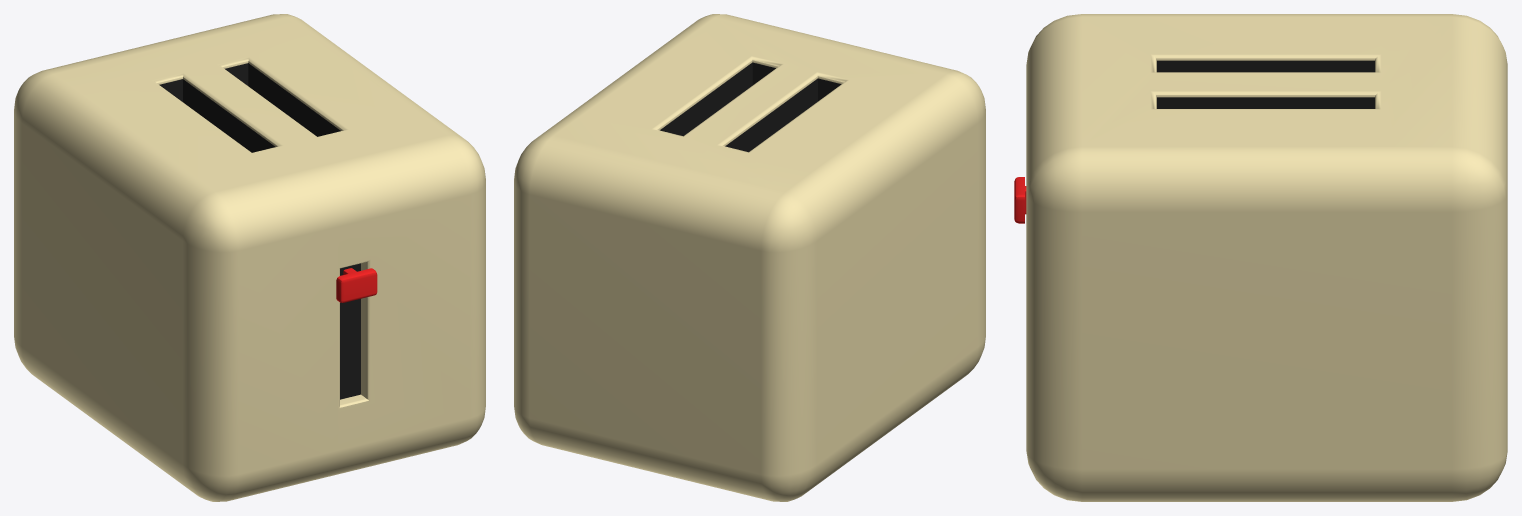
The model's file is toaster.obj.
3 renders of one model, left to right at view 1: azimuth 30°, elevation 25°; view 2: azimuth 150°, elevation 25°; view 3: azimuth 270°, elevation 25°, orthographic. The views are drawn at different scales.
Visible parts, largest first — view 1: toaster.001; view 2: toaster.001; view 3: toaster.001.
Boxes of the visible parts, left/top/right/bottom form: toaster.001: left=14, top=14, right=485, bottom=501; toaster.001: left=514, top=14, right=985, bottom=501; toaster.001: left=1014, top=14, right=1507, bottom=501.
Bounding box in the file's own units: 0.2309 × 0.2288 × 0.2905.
